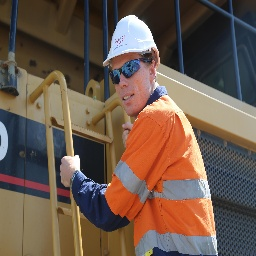helmet: (98, 13, 160, 64)
person: (77, 13, 221, 256)
vest: (107, 109, 217, 249)
